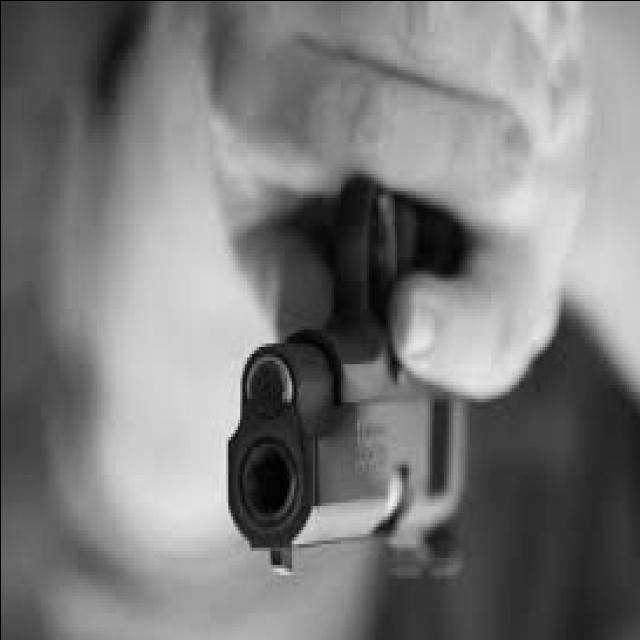weapons: (220, 122, 499, 598)
